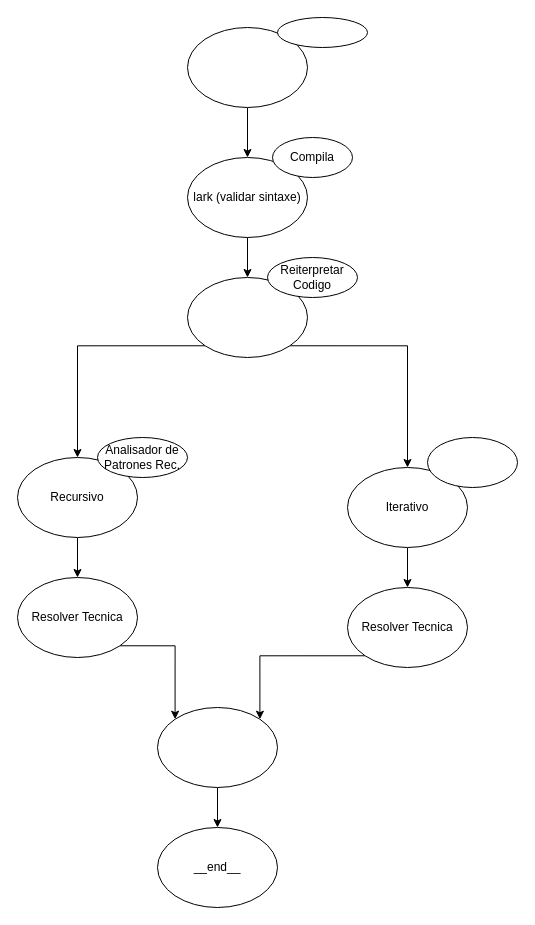
Some shapes in this 535 by 925 pixel diagram are drawn without their labels. Each missing label, with the centre of its shape:
"__start__" goes at (247,67).
"Analisador de Patrones Int." goes at (472,462).
"AnalisarTipo" goes at (247,317).
"codigo" goes at (322,32).
"Preparar Resultado" goes at (217,747).
